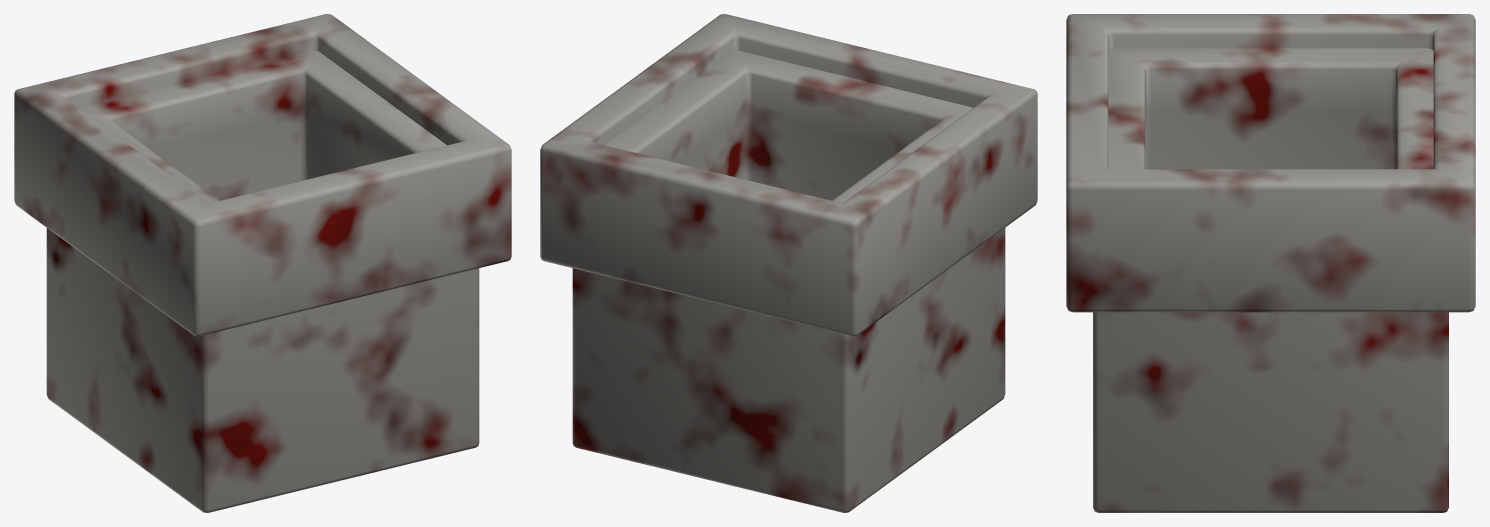
Rendered from Garbafecolector.fbx.
The picture shows the model from 3 angles, left to right: view 1: azimuth 30°, elevation 25°; view 2: azimuth 150°, elevation 25°; view 3: azimuth 270°, elevation 25°; orthographic projection. The views are drawn at different scales.
Visible parts, largest first — view 1: Cube.026; view 2: Cube.026; view 3: Cube.026.
Boxes of the visible parts, x1,y1,x2,y2 form: Cube.026: (14, 14, 511, 512); Cube.026: (540, 14, 1037, 512); Cube.026: (1066, 14, 1475, 512).
Bounding box in the file's own units: 2.02 × 1.86 × 2.02.
Materials: 1 (1 with a texture image).
